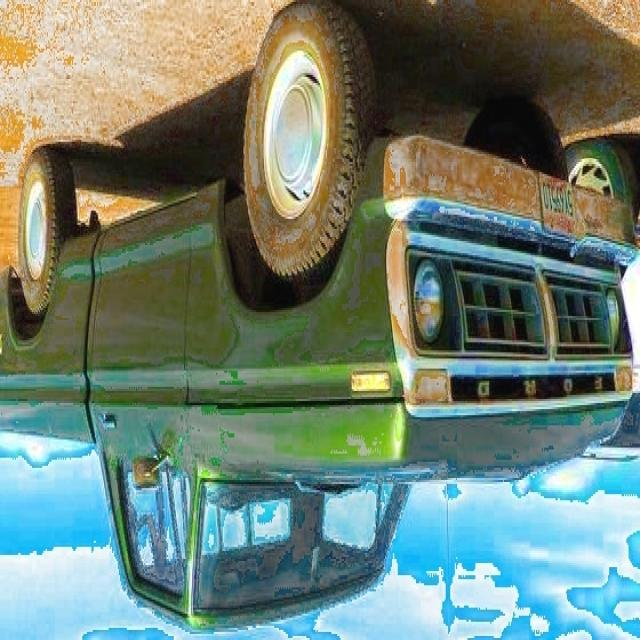green: (0, 0, 637, 628)
